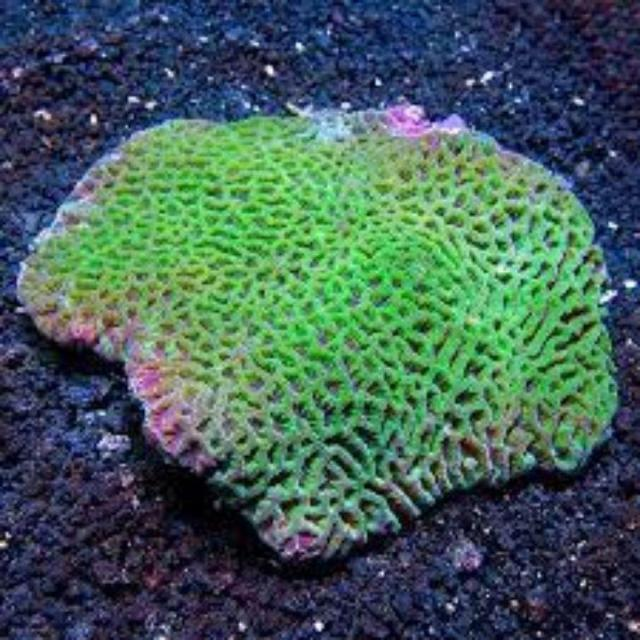Healthy Coral: (48, 96, 617, 525)
